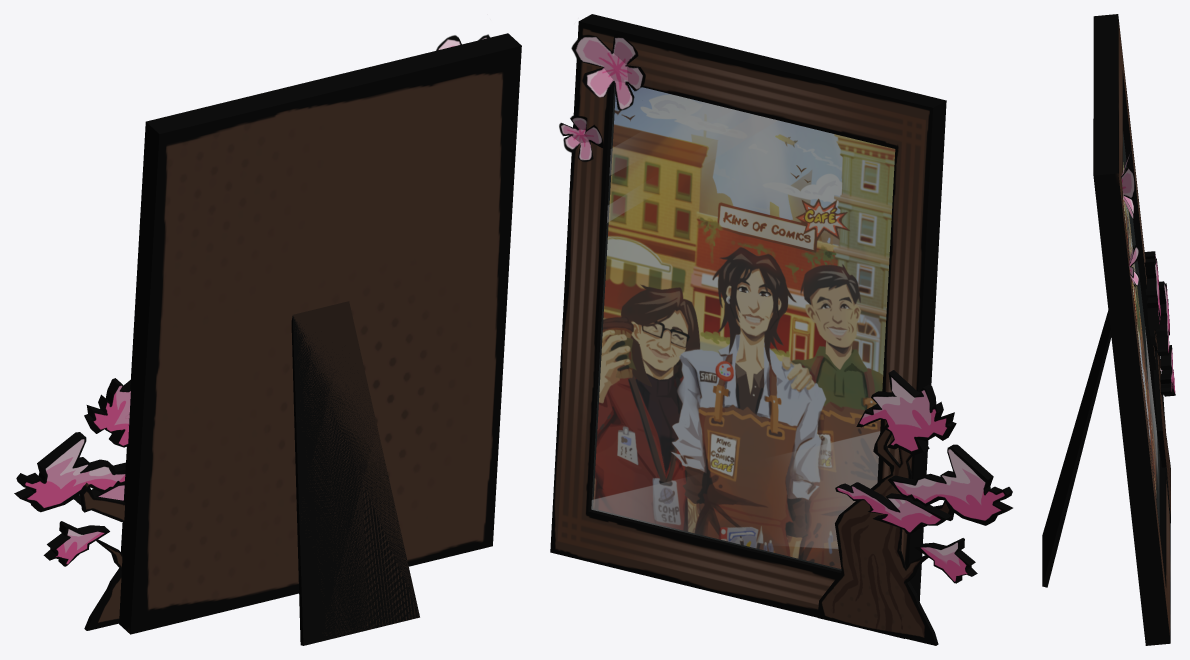
The model's file is familyPortrait.glb.
3 views of the same model, side by side, from view 1: azimuth 30°, elevation 25°; view 2: azimuth 150°, elevation 25°; view 3: azimuth 270°, elevation 25° (orthographic). The views are drawn at different scales.
Visible parts, largest first — view 1: frame.001; view 2: glass, familyPhotoPNG, frame.001; view 3: frame.001, glass, familyPhotoPNG.
Part boxes in pixels (x1=…): frame.001: x1=14, y1=33, x2=521, y2=645; glass: x1=591, y1=88, x2=894, y2=569; familyPhotoPNG: x1=593, y1=84, x2=895, y2=568; frame.001: x1=550, y1=14, x2=1012, y2=645; frame.001: x1=1042, y1=14, x2=1175, y2=645; glass: x1=1123, y1=137, x2=1158, y2=516; familyPhotoPNG: x1=1123, y1=162, x2=1156, y2=498.
Bounding box in the file's own units: 4.46 × 4.79 × 1.19.
3 materials, 3 textured.
